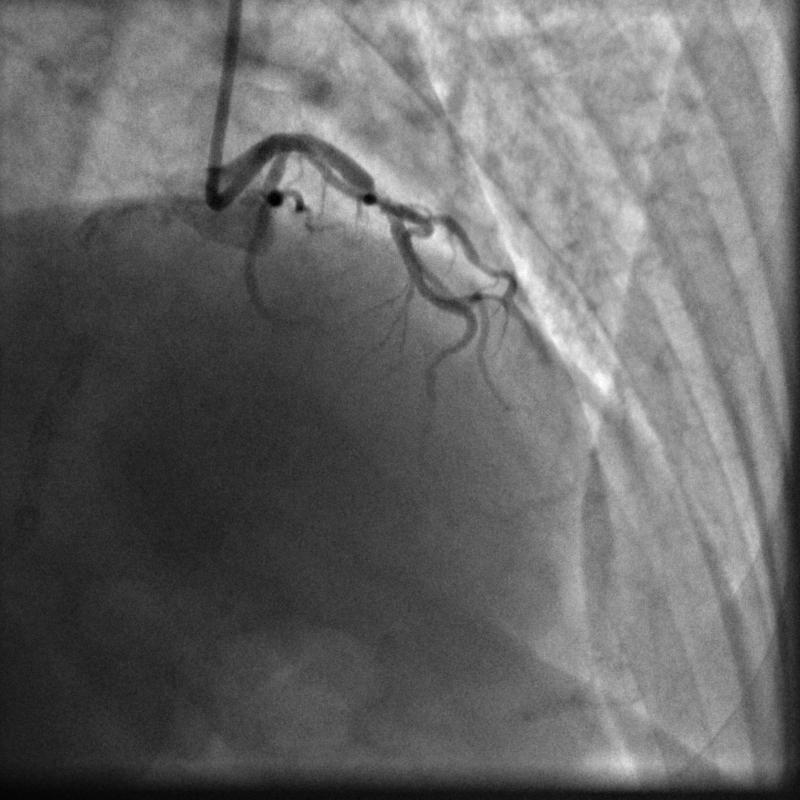Stenosis: (375, 188, 388, 213)
